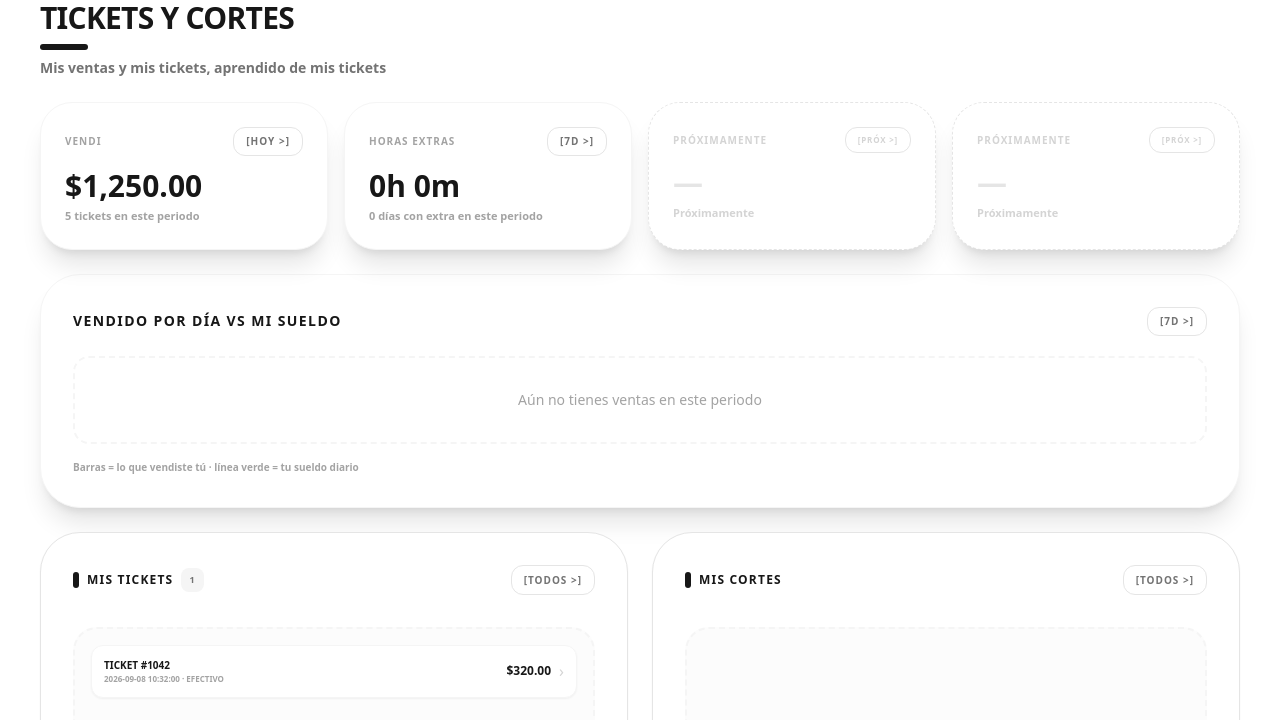
mis tickets · vista › abrir un ticket pide el detalle con venta_id (snake_case del comando)
The image size is (1280, 720).
What coordinates should you click on to do the following:
click the button "Ticket #1042 2026-09-08 10:32:00 · efectivo $320.00 ›"
I would click on:
 (122, 664)
Its box is [91,644,577,698].
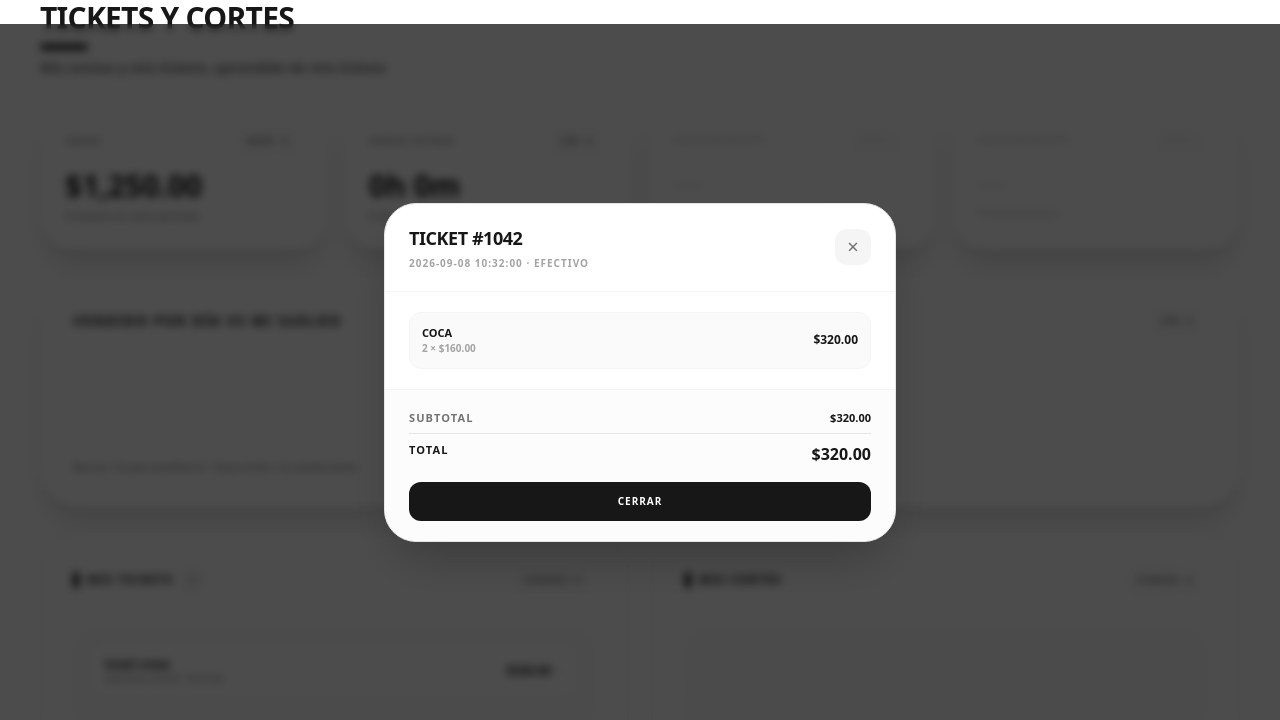
Check: the text "Coca" is shown, box [422,324,452,340]
